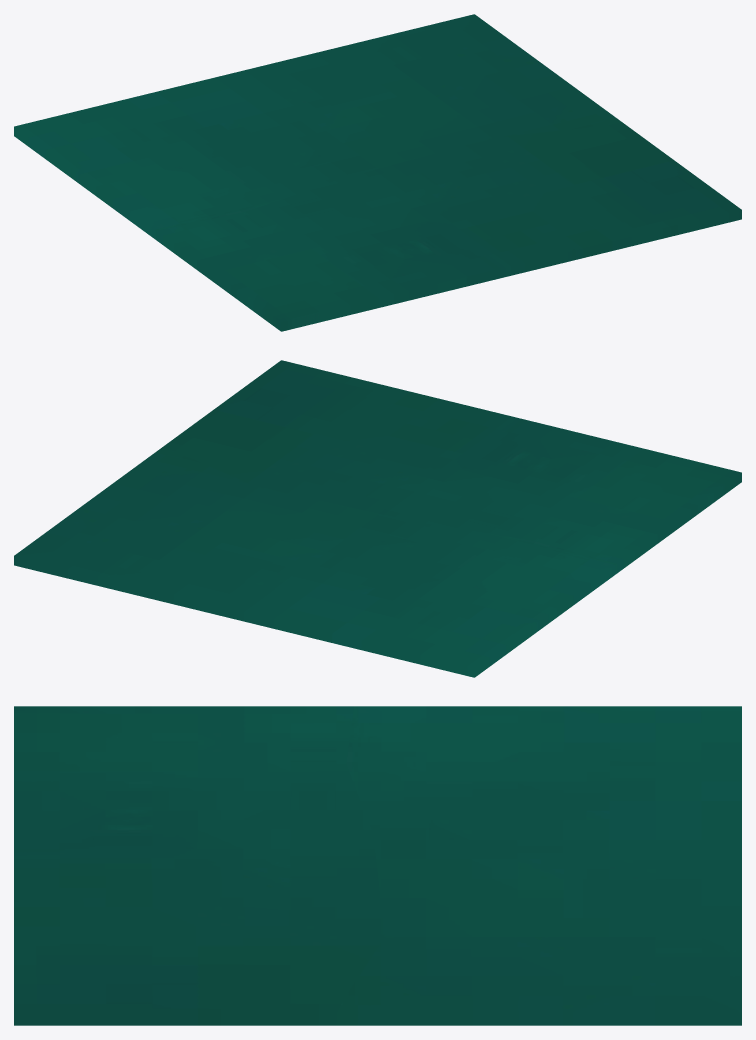
The model's file is z16-10474-25322-h0-yup-uvflip-v3-world.glb.
3 renders of one model, top to bottom at view 1: azimuth 30°, elevation 25°; view 2: azimuth 150°, elevation 25°; view 3: azimuth 270°, elevation 25°, orthographic. The views are drawn at different scales.
Size of the model in its own units: 483 by 9.6 by 485.
Materials: 1 (1 with a texture image).
